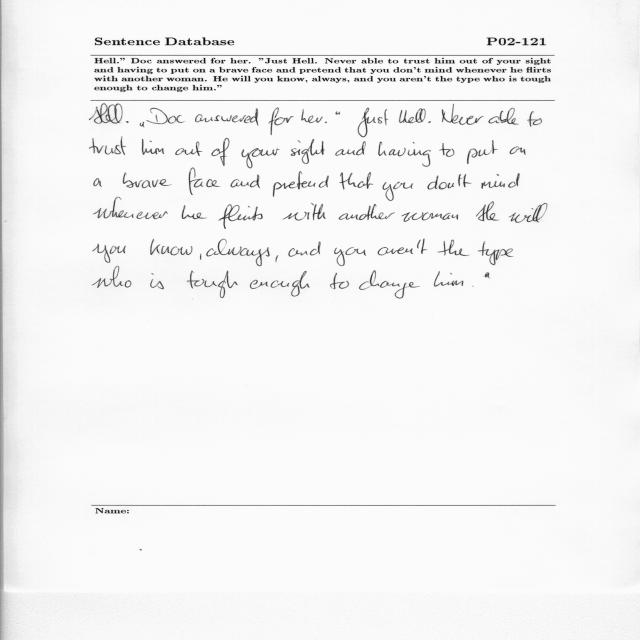word: (359, 270, 420, 299), (206, 239, 270, 266), (114, 173, 172, 202), (250, 271, 310, 296), (273, 171, 329, 197), (378, 141, 431, 167), (187, 271, 238, 298), (93, 202, 168, 219), (195, 108, 259, 126), (219, 204, 263, 229), (339, 204, 395, 220), (442, 104, 484, 125), (358, 108, 388, 137), (291, 139, 325, 164), (478, 242, 513, 266), (189, 168, 220, 195), (93, 267, 131, 288), (378, 239, 427, 255), (283, 203, 326, 221), (242, 149, 280, 169), (509, 203, 547, 223), (467, 140, 498, 164), (93, 244, 126, 266), (428, 174, 472, 190), (269, 107, 294, 135), (151, 239, 193, 255), (90, 104, 123, 124), (90, 137, 126, 155), (146, 108, 185, 124), (481, 173, 520, 189), (340, 172, 374, 190), (334, 247, 366, 266), (383, 182, 413, 201), (402, 212, 456, 222), (488, 108, 519, 125), (438, 240, 470, 256), (212, 138, 230, 166), (288, 242, 321, 257), (335, 141, 366, 156), (434, 271, 463, 287), (476, 202, 499, 221), (231, 174, 260, 188), (399, 109, 426, 124), (176, 141, 203, 156), (142, 139, 164, 155), (182, 205, 207, 219), (301, 109, 323, 123), (330, 273, 349, 289), (527, 111, 542, 127), (150, 273, 164, 289), (440, 143, 455, 157), (510, 146, 526, 155), (94, 178, 102, 187), (485, 272, 490, 278), (140, 122, 145, 127), (276, 255, 279, 262), (336, 111, 340, 115), (456, 215, 458, 220), (126, 121, 129, 123), (428, 121, 431, 123), (200, 254, 201, 260), (325, 122, 327, 123), (472, 286, 473, 287)
